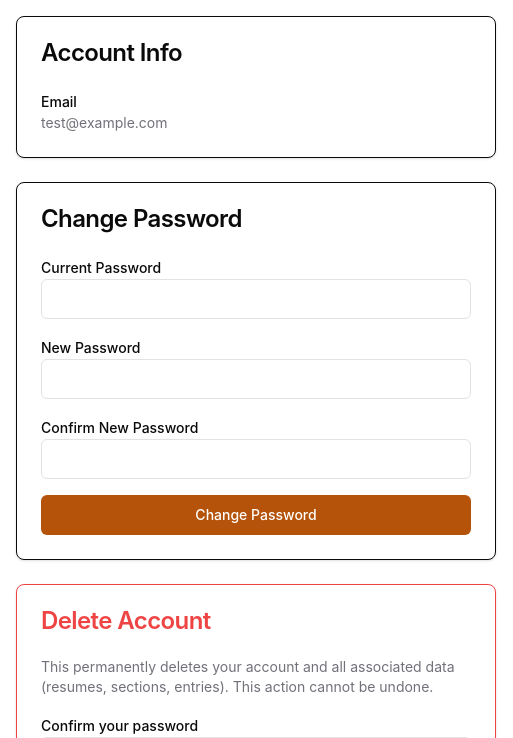
Test: AccountView › Change Password › shows success message on successful password change
Type "correct" into the password field with id "current-password" at (256, 299), box x1=41 y1=279 x2=471 y2=319
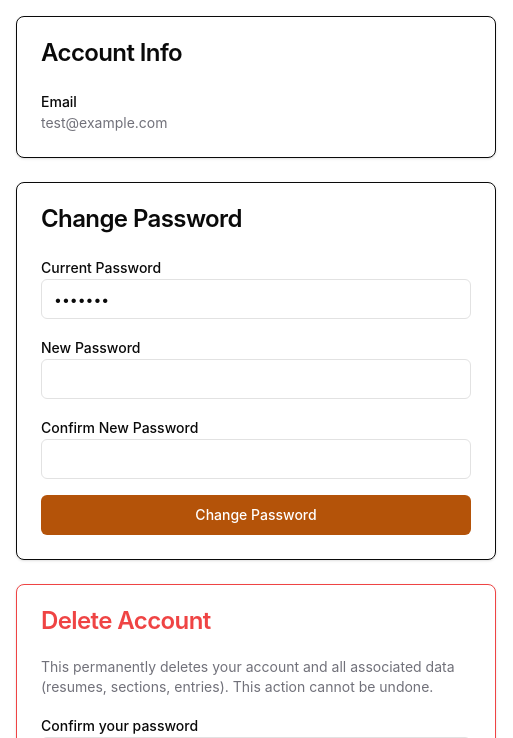
Type "newpassword123" into the password field with id "new-password" at (256, 379), box x1=41 y1=359 x2=471 y2=399
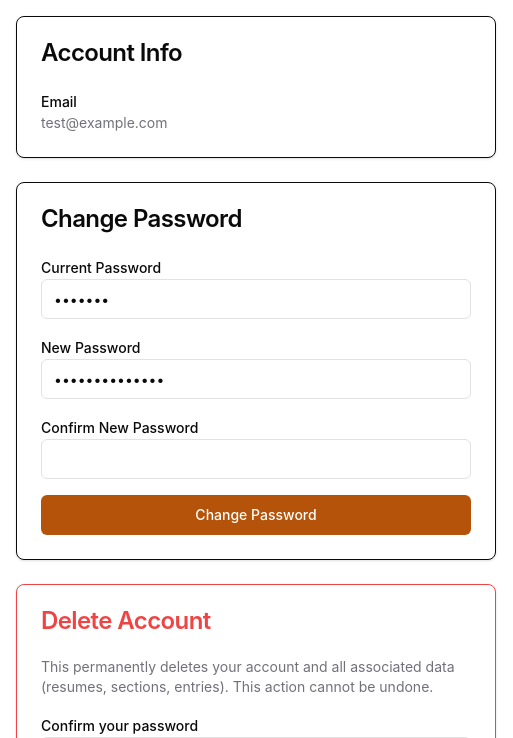
Type "newpassword123" into the password field with id "confirm-new-password" at (256, 459), box x1=41 y1=439 x2=471 y2=479
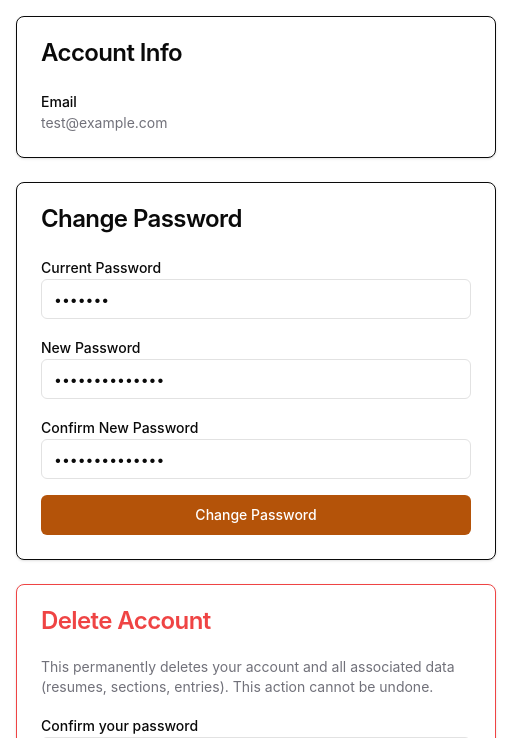
Submit the form that starts with "Current Password", box x1=41 y1=255 x2=471 y2=535
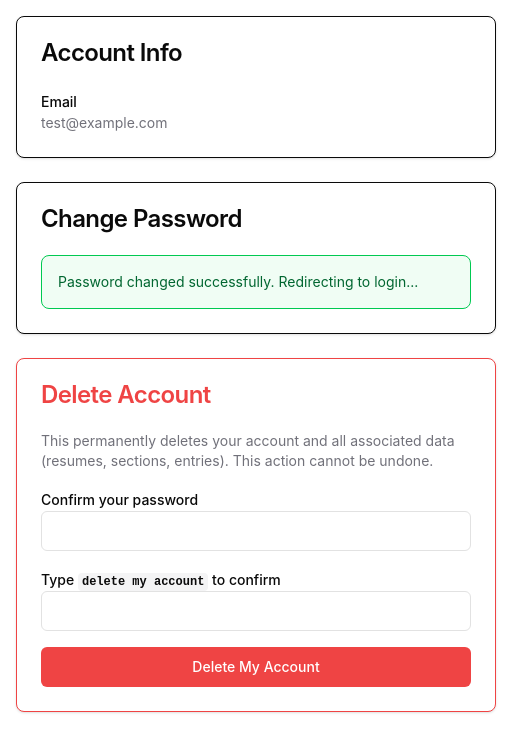
expect the number of messages is 1: met, box x1=41 y1=255 x2=471 y2=309
expect the message "Password changed successfully. Redirecting to login..." is shown: met, box x1=41 y1=255 x2=471 y2=309
